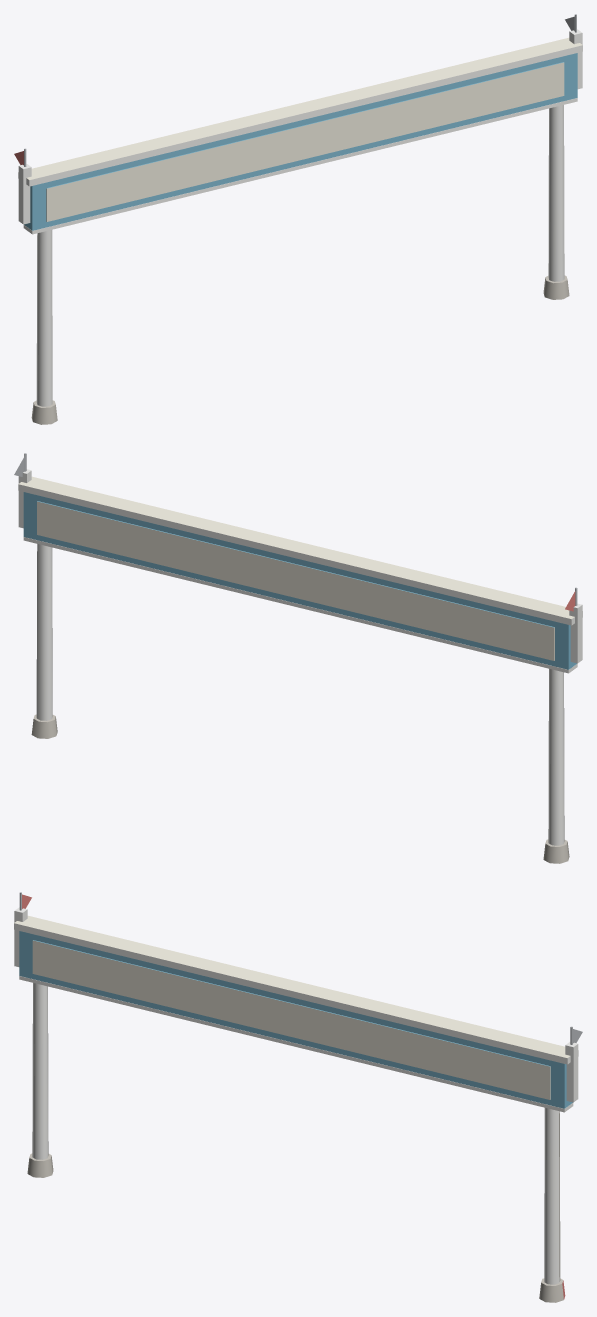
File: start_gate.glb
3 views of the same model, one above another, from view 1: azimuth 30°, elevation 25°; view 2: azimuth 150°, elevation 25°; view 3: azimuth 330°, elevation 25° (orthographic).
Parts seen in each view (by area): view 1: start_gate; view 2: start_gate; view 3: start_gate.
Part boxes in pixels (x1,y1,x2,y2): start_gate: (14,14,582,424); start_gate: (14,453,582,863); start_gate: (14,892,582,1302).
Bounding box in the file's own units: 20.1 × 9.45 × 1.12.
